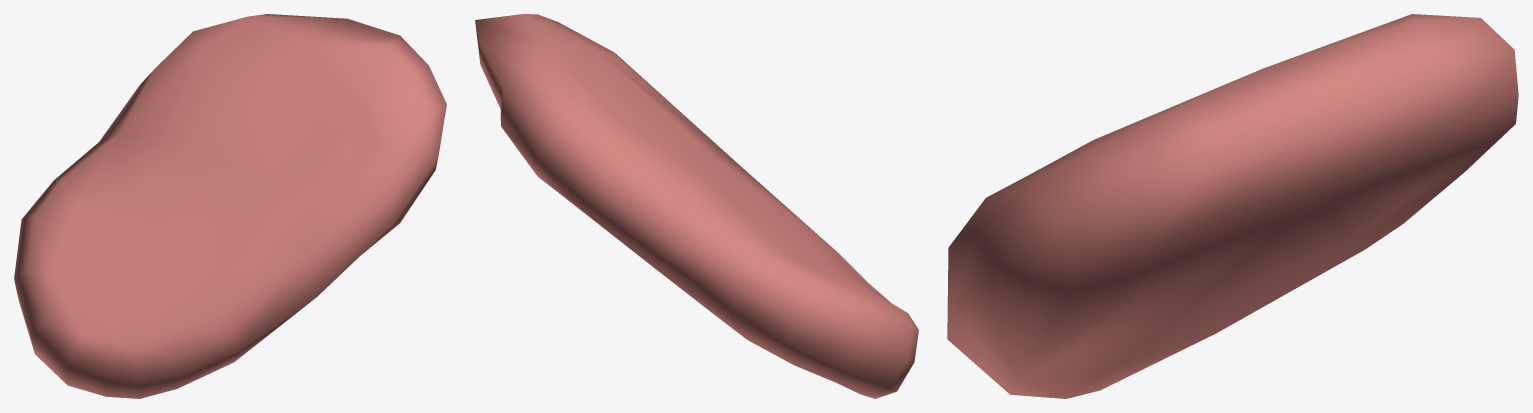
3 renders of one model, left to right at view 1: azimuth 30°, elevation 25°; view 2: azimuth 150°, elevation 25°; view 3: azimuth 270°, elevation 25°, orthographic. The views are drawn at different scales.
Visible parts, largest first — view 1: ZA_4d3c4eb8e3a26996; view 2: ZA_4d3c4eb8e3a26996; view 3: ZA_4d3c4eb8e3a26996.
Part boxes in pixels (box(x1,y1,x2,y2)): ZA_4d3c4eb8e3a26996: box(14, 14, 446, 398); ZA_4d3c4eb8e3a26996: box(475, 14, 918, 398); ZA_4d3c4eb8e3a26996: box(947, 14, 1518, 398).
Bounding box in the file's own units: 0.00254 × 0.00176 × 0.00165.
